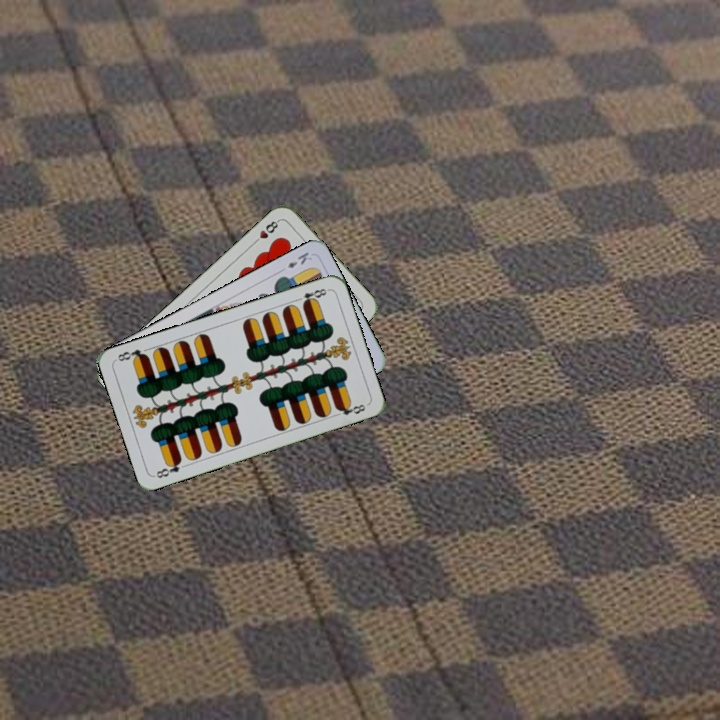E8: (291, 284, 331, 308), (152, 455, 184, 481)
EK: (283, 248, 315, 271)
H8: (249, 216, 282, 247)
